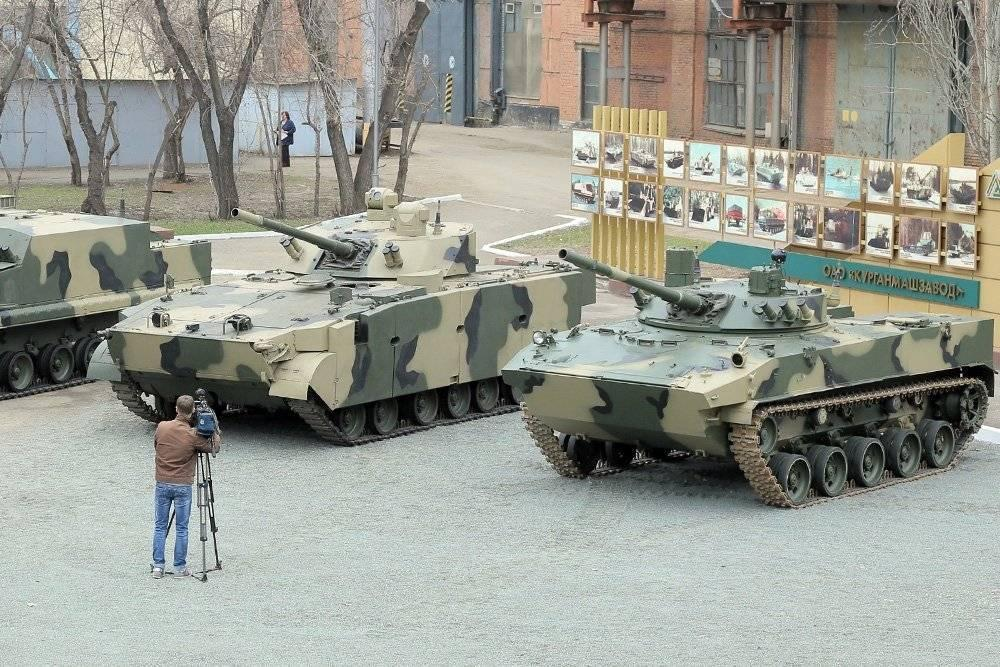person: (150, 395, 222, 577), (272, 110, 298, 167)
tank: (85, 185, 597, 448), (501, 245, 999, 509), (0, 193, 212, 401)
